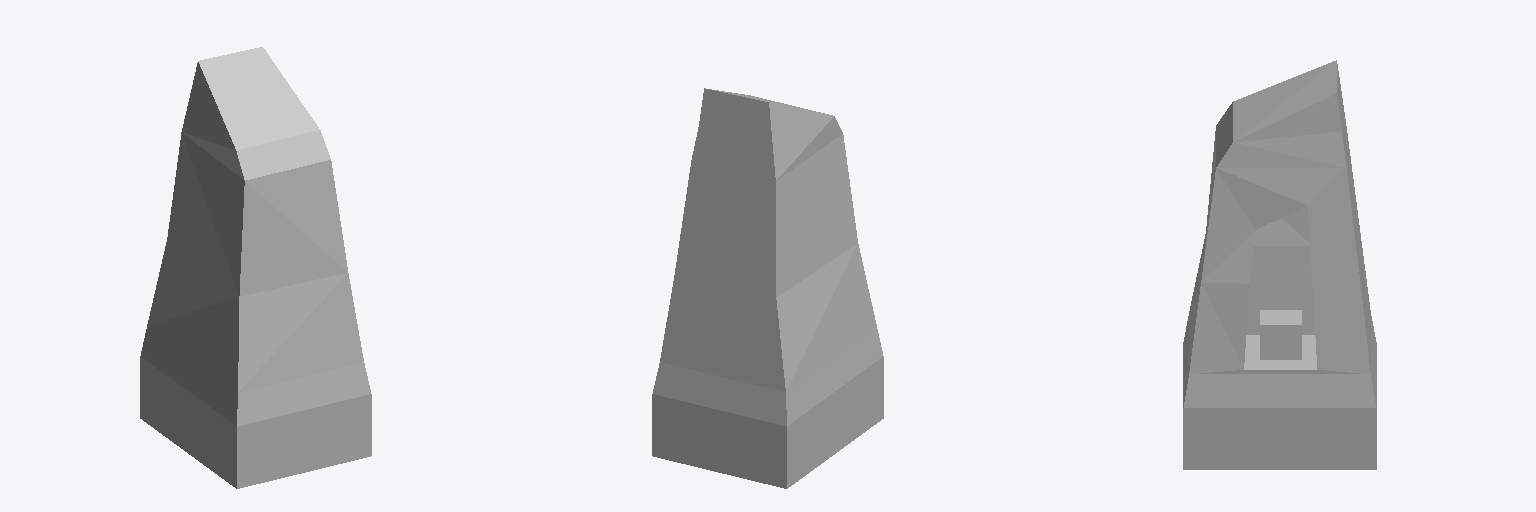
File: runeforge_gold.obj
3 renders of one model, left to right at view 1: azimuth 30°, elevation 25°; view 2: azimuth 150°, elevation 25°; view 3: azimuth 270°, elevation 25°, orthographic.
Visible parts, largest first — view 1: Pillar_Cube; view 2: Pillar_Cube; view 3: Pillar_Cube.
Part boxes in pixels (bbox=[...]): Pillar_Cube: bbox=[140, 47, 371, 488]; Pillar_Cube: bbox=[652, 88, 883, 488]; Pillar_Cube: bbox=[1183, 60, 1376, 469].
Bounding box in the file's own units: 0.7716 × 1.99 × 0.958.